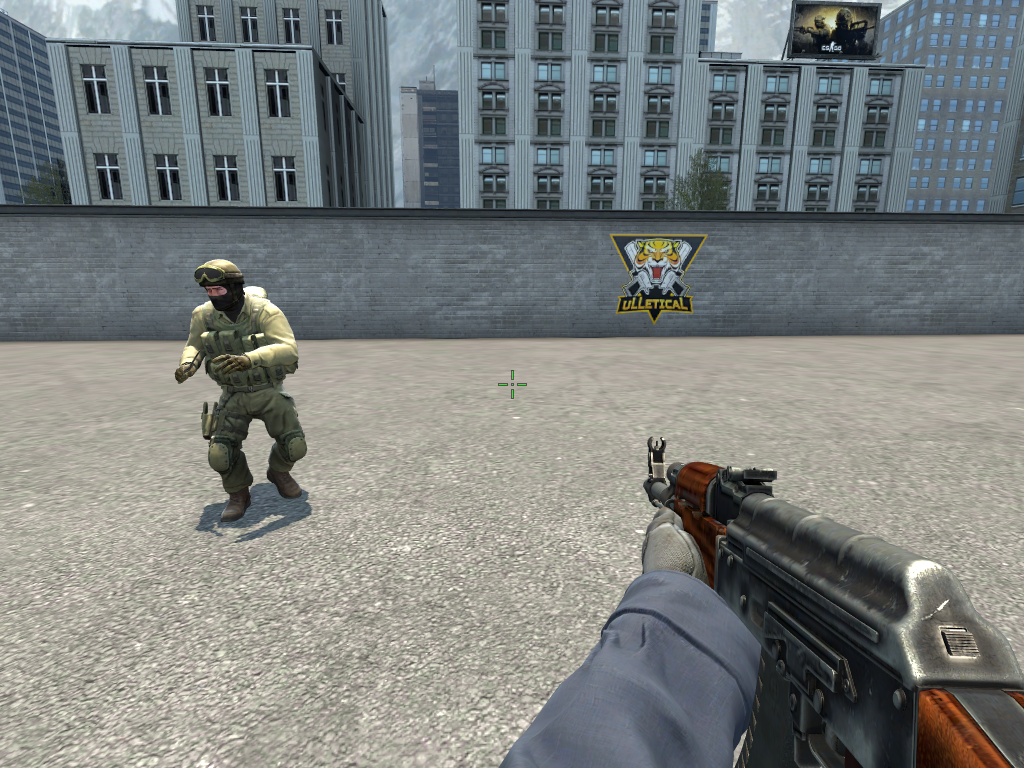ct head: (193, 248, 250, 312)
